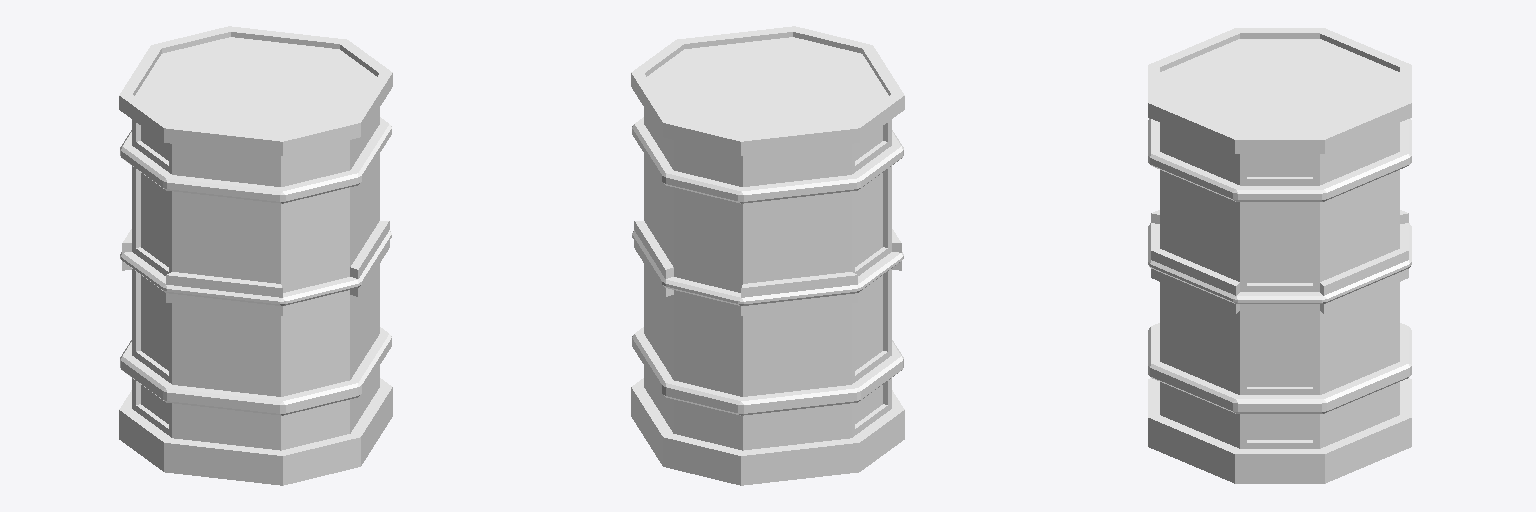
File: Barrel.obj
3 renders of one model, left to right at view 1: azimuth 30°, elevation 25°; view 2: azimuth 150°, elevation 25°; view 3: azimuth 270°, elevation 25°, orthographic.
Visible parts, largest first — view 1: octotoad1; view 2: octotoad1; view 3: octotoad1.
Boxes of the visible parts, box(x1,y1,x2,y2) form: octotoad1: box(119, 26, 392, 485); octotoad1: box(631, 26, 904, 485); octotoad1: box(1148, 28, 1411, 483).
Size of the model in its own units: 1.65 by 2.37 by 1.65.